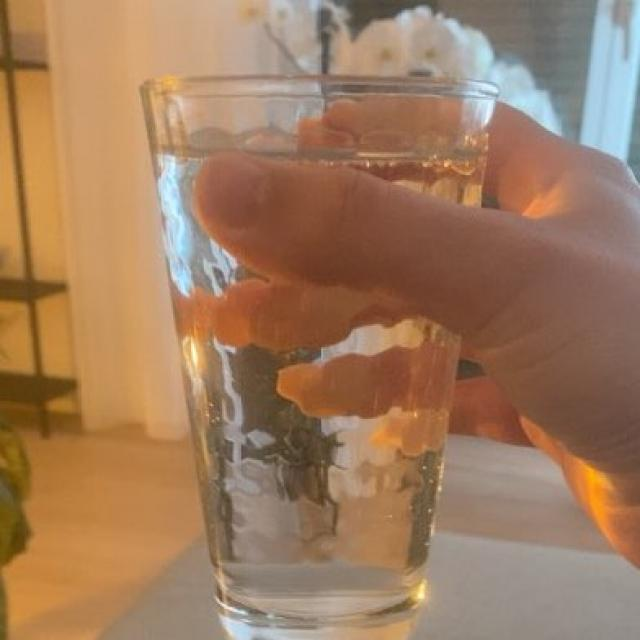water-mineral: (153, 158, 443, 617)
